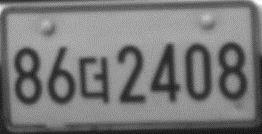0: (183, 41, 213, 100)
2: (115, 43, 146, 104)
4: (148, 41, 181, 103)
6: (45, 45, 76, 104)
8: (13, 45, 43, 105), (217, 41, 248, 99)
더: (77, 54, 112, 105)
